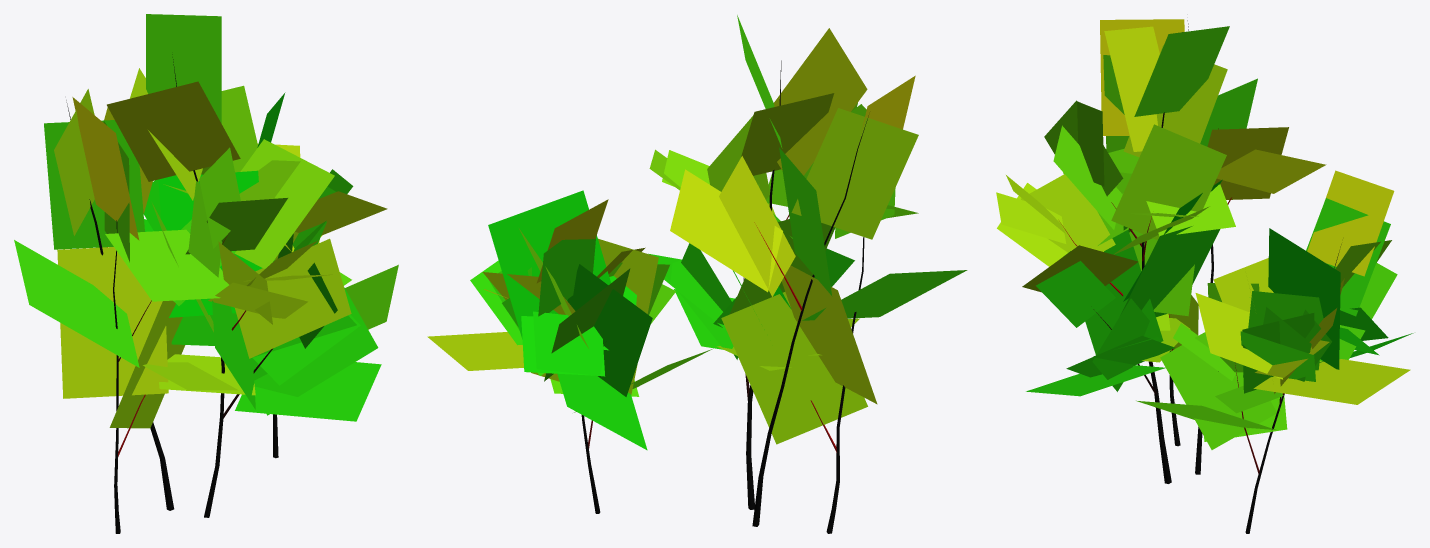
Rendered from CalamusSwamp03.FBX.
The picture shows the model from 3 angles, left to right: view 1: azimuth 30°, elevation 25°; view 2: azimuth 150°, elevation 25°; view 3: azimuth 270°, elevation 25°; orthographic projection. The views are drawn at different scales.
Visible parts, largest first — view 1: CalamusSwamp03; view 2: CalamusSwamp03; view 3: CalamusSwamp03.
Part boxes in pixels (<box>): CalamusSwamp03: <box>14,14,398,533</box>; CalamusSwamp03: <box>427,15,967,533</box>; CalamusSwamp03: <box>996,19,1413,533</box>.
Bounding box in the file's own units: 544 × 610 × 509.
